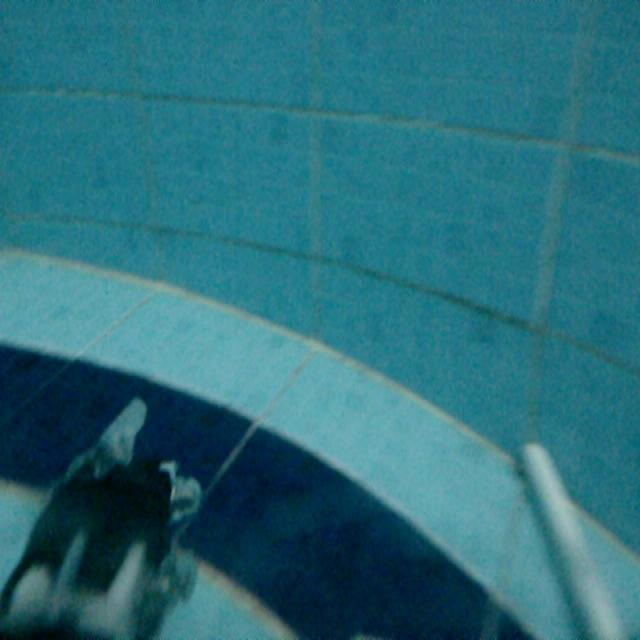Cube: (519, 437, 637, 640)
